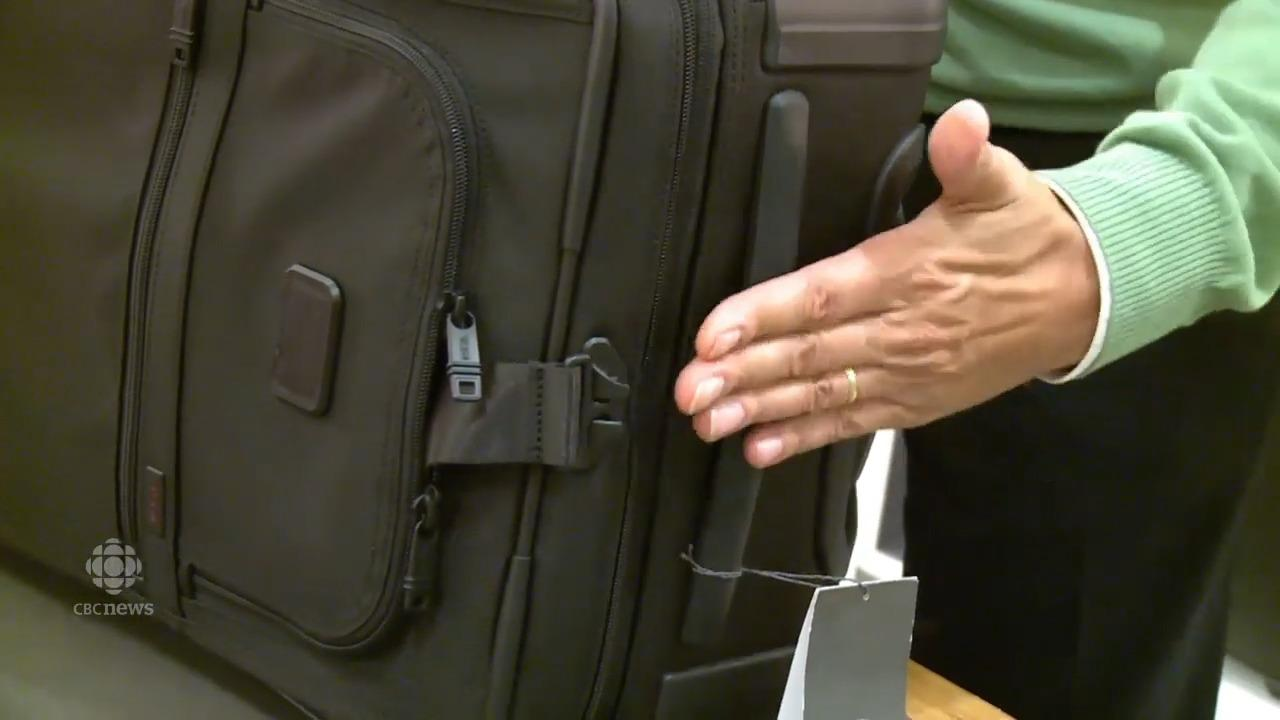luggage: (0, 0, 961, 716)
